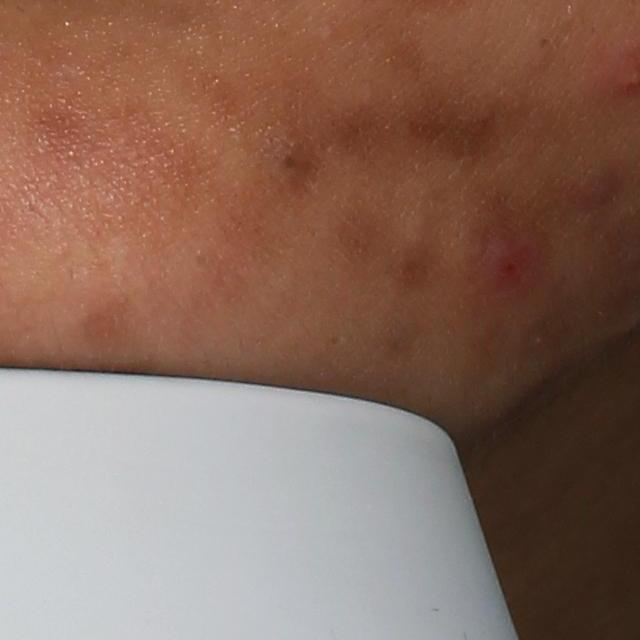papule: (476, 235, 542, 301)
